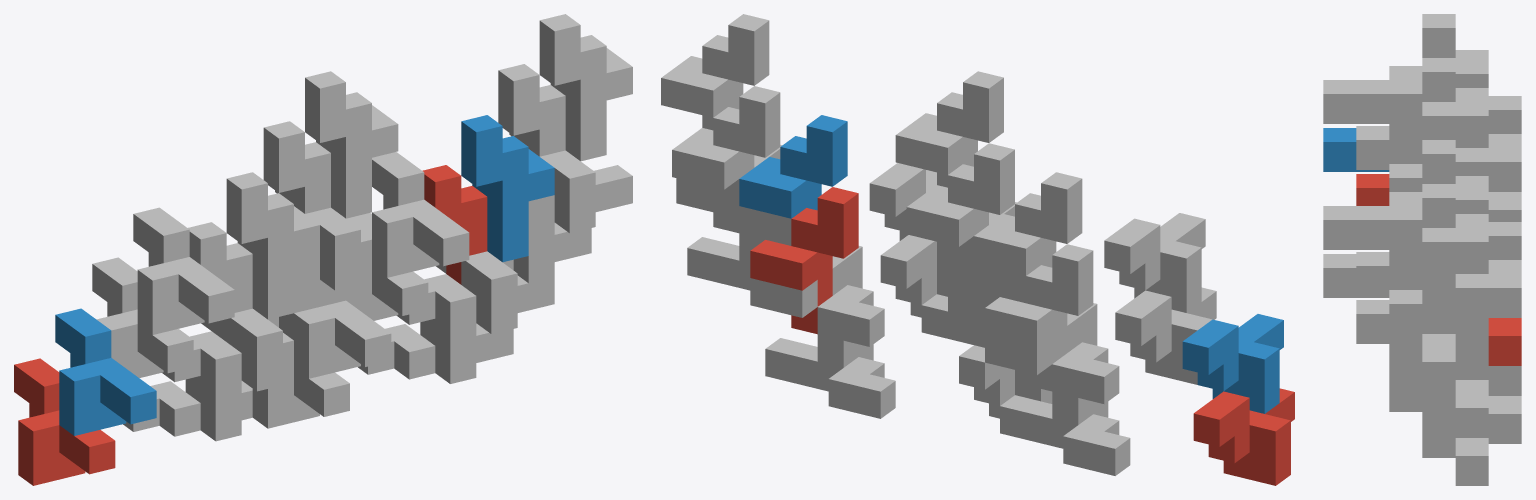
Rendered from tiling.obj.
The picture shows the model from 3 angles, left to right: view 1: azimuth 30°, elevation 25°; view 2: azimuth 150°, elevation 25°; view 3: azimuth 270°, elevation 25°; orthographic projection. The views are drawn at different scales.
Parts seen in each view (by area): view 1: copy_1_domain_4, copy_1_domain_2, copy_2_domain_2, copy_2_domain_8, copy_2_domain_6, copy_2_domain_4, copy_1_domain_8, copy_1_domain_1, copy_3_domain_6, copy_3_domain_2, copy_1_domain_6, copy_1_domain_3 (+12 smaller); view 2: copy_2_domain_7, copy_2_domain_3, copy_2_domain_1, copy_2_domain_5, copy_1_domain_4, copy_1_domain_2, copy_2_domain_8, copy_2_domain_4, copy_1_domain_1, copy_2_domain_2, copy_2_domain_6, copy_3_domain_5 (+12 smaller); view 3: copy_2_domain_8, copy_1_domain_4, copy_1_domain_8, copy_2_domain_4, copy_2_domain_7, copy_3_domain_8, copy_3_domain_7, copy_2_domain_3, copy_3_domain_5, copy_1_domain_3, copy_1_domain_7, copy_3_domain_6 (+7 smaller).
Boxes of the visible parts, x1=… form: copy_1_domain_4: x1=133, y1=207, x2=234, y2=334; copy_1_domain_2: x1=55, y1=308, x2=156, y2=435; copy_2_domain_2: x1=226, y1=172, x2=319, y2=319; copy_2_domain_8: x1=539, y1=14, x2=632, y2=161; copy_2_domain_6: x1=461, y1=115, x2=554, y2=262; copy_2_domain_4: x1=305, y1=71, x2=398, y2=218; copy_1_domain_8: x1=372, y1=152, x2=469, y2=277; copy_1_domain_1: x1=14, y1=358, x2=115, y2=485; copy_3_domain_6: x1=396, y1=251, x2=554, y2=334; copy_3_domain_2: x1=162, y1=308, x2=293, y2=391; copy_1_domain_6: x1=294, y1=280, x2=391, y2=378; copy_1_domain_3: x1=92, y1=257, x2=193, y2=377; copy_2_domain_7: x1=672, y1=86, x2=780, y2=233; copy_2_domain_3: x1=906, y1=143, x2=1014, y2=290; copy_2_domain_1: x1=985, y1=244, x2=1093, y2=391; copy_2_domain_5: x1=750, y1=187, x2=858, y2=334; copy_1_domain_4: x1=1104, y1=213, x2=1205, y2=312; copy_1_domain_2: x1=1182, y1=314, x2=1283, y2=413; copy_2_domain_8: x1=661, y1=14, x2=769, y2=130; copy_2_domain_4: x1=895, y1=71, x2=1003, y2=187; copy_1_domain_1: x1=1193, y1=388, x2=1294, y2=485; copy_2_domain_2: x1=974, y1=172, x2=1082, y2=275; copy_2_domain_6: x1=739, y1=115, x2=847, y2=218; copy_3_domain_5: x1=765, y1=334, x2=895, y2=418; copy_2_domain_8: x1=1422, y1=140, x2=1488, y2=317; copy_1_domain_4: x1=1323, y1=50, x2=1488, y2=153; copy_1_domain_8: x1=1323, y1=176, x2=1488, y2=279; copy_2_domain_4: x1=1422, y1=14, x2=1488, y2=145; copy_2_domain_7: x1=1455, y1=186, x2=1521, y2=363; copy_3_domain_8: x1=1389, y1=290, x2=1455, y2=391; copy_3_domain_7: x1=1422, y1=364, x2=1521, y2=437; copy_2_domain_3: x1=1455, y1=60, x2=1521, y2=191; copy_3_domain_5: x1=1422, y1=396, x2=1521, y2=485; copy_1_domain_3: x1=1356, y1=96, x2=1521, y2=169; copy_1_domain_7: x1=1356, y1=222, x2=1521, y2=295; copy_3_domain_6: x1=1389, y1=364, x2=1455, y2=439.
Size of the model in its own units: 23 by 12 by 6.
